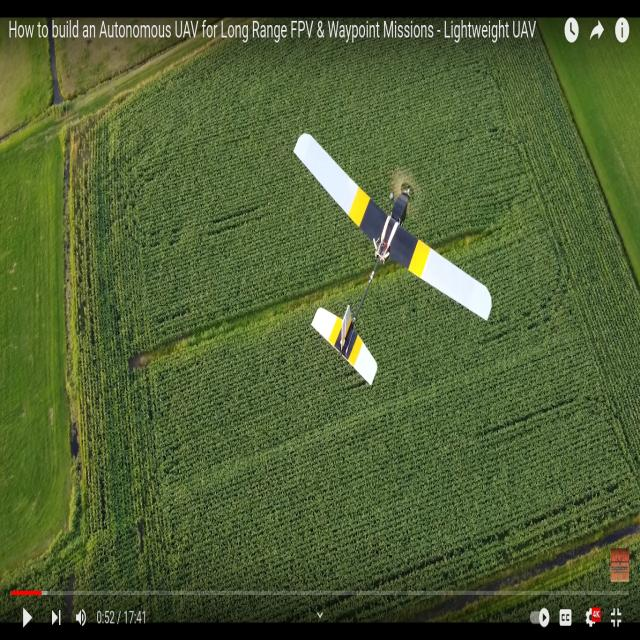drones: (281, 115, 501, 425)
